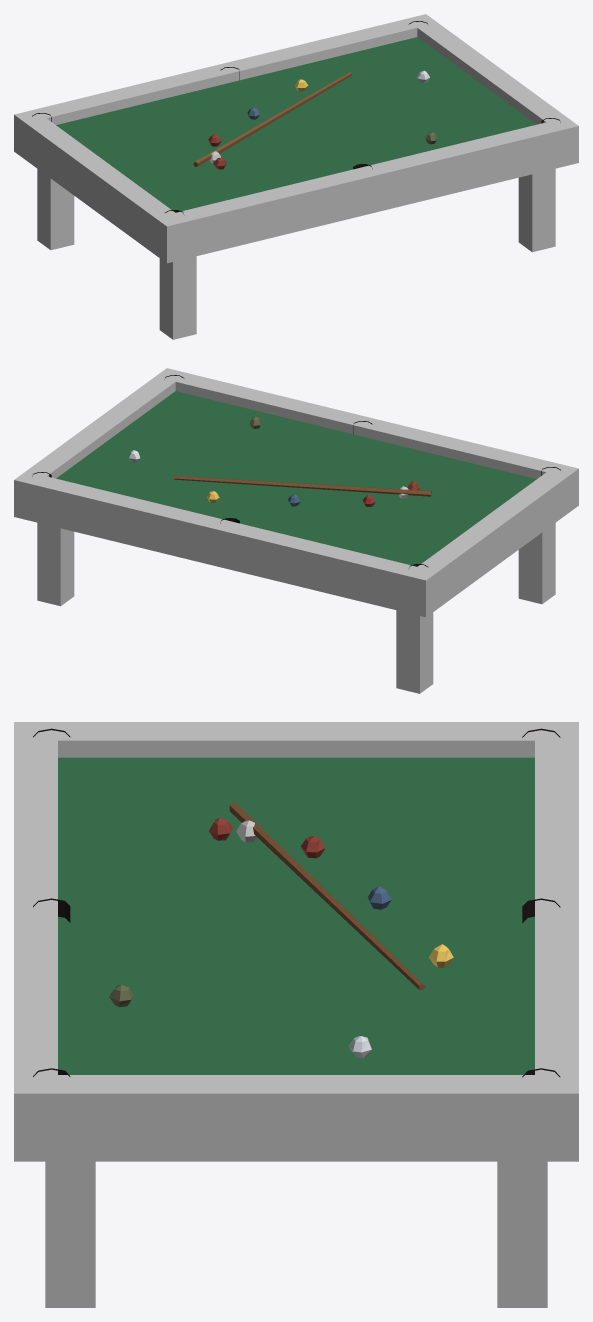
Rendered from billiards_table.obj.
3 renders of one model, top to bottom at view 1: azimuth 30°, elevation 25°; view 2: azimuth 150°, elevation 25°; view 3: azimuth 270°, elevation 25°, orthographic. The views are drawn at different scales.
Parts seen in each view (by area): view 1: billiards_table; view 2: billiards_table; view 3: billiards_table.
Part boxes in pixels (x1,y1,x2,y2): billiards_table: (14, 14, 578, 339); billiards_table: (14, 368, 578, 693); billiards_table: (14, 722, 578, 1307).
Bounding box in the file's own units: 2.8 × 0.8114 × 1.8.
